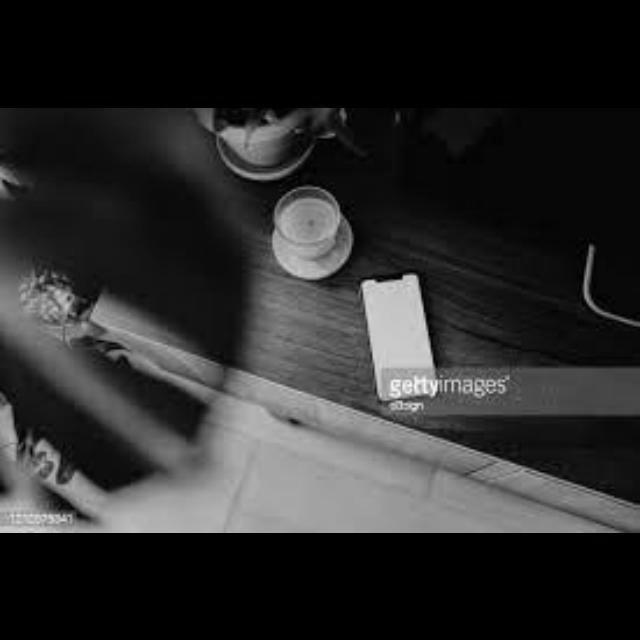fake: (358, 267, 446, 407)
